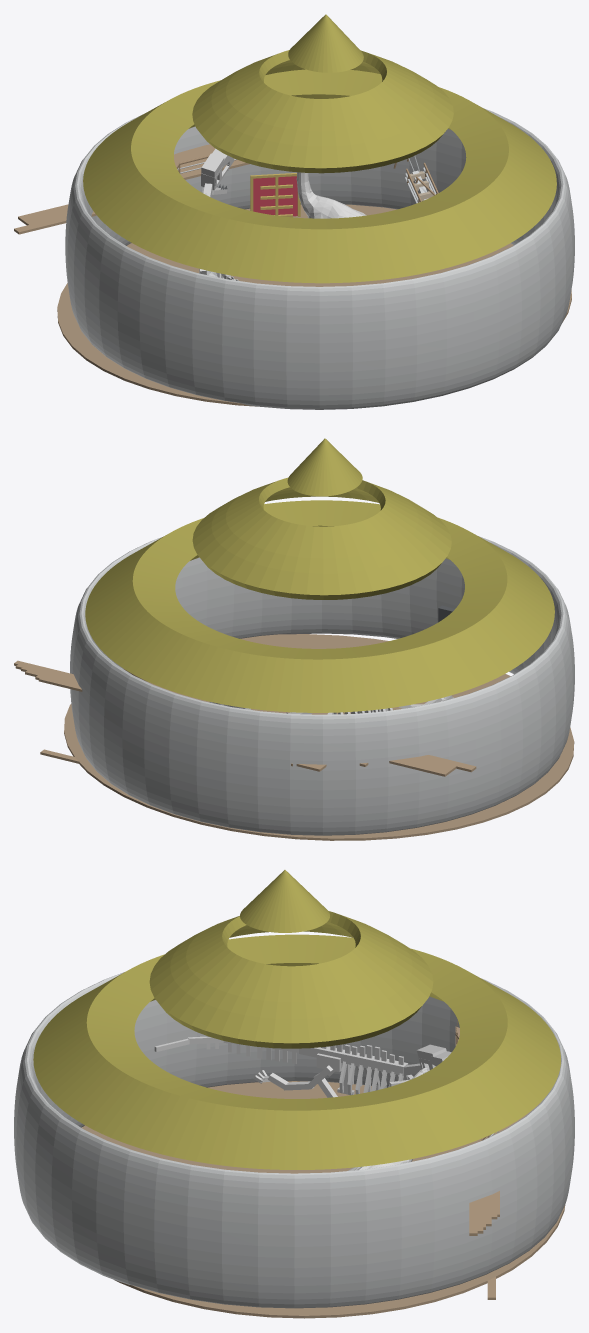
Rendered from Brilliant Gaaris-Curcan.glb.
3 renders of one model, top to bottom at view 1: azimuth 30°, elevation 25°; view 2: azimuth 150°, elevation 25°; view 3: azimuth 270°, elevation 25°, orthographic. The views are drawn at different scales.
Visible parts, largest first — view 1: Mesh_Mesh_head_geo.001_lambert2SG.001; view 2: Mesh_Mesh_head_geo.001_lambert2SG.001; view 3: Mesh_Mesh_head_geo.001_lambert2SG.001.
Part boxes in pixels (<box>): Mesh_Mesh_head_geo.001_lambert2SG.001: <box>14,14,574,409</box>; Mesh_Mesh_head_geo.001_lambert2SG.001: <box>14,438,574,840</box>; Mesh_Mesh_head_geo.001_lambert2SG.001: <box>14,870,574,1318</box>.
Size of the model in its own units: 0.2104 by 0.13 by 0.202.
